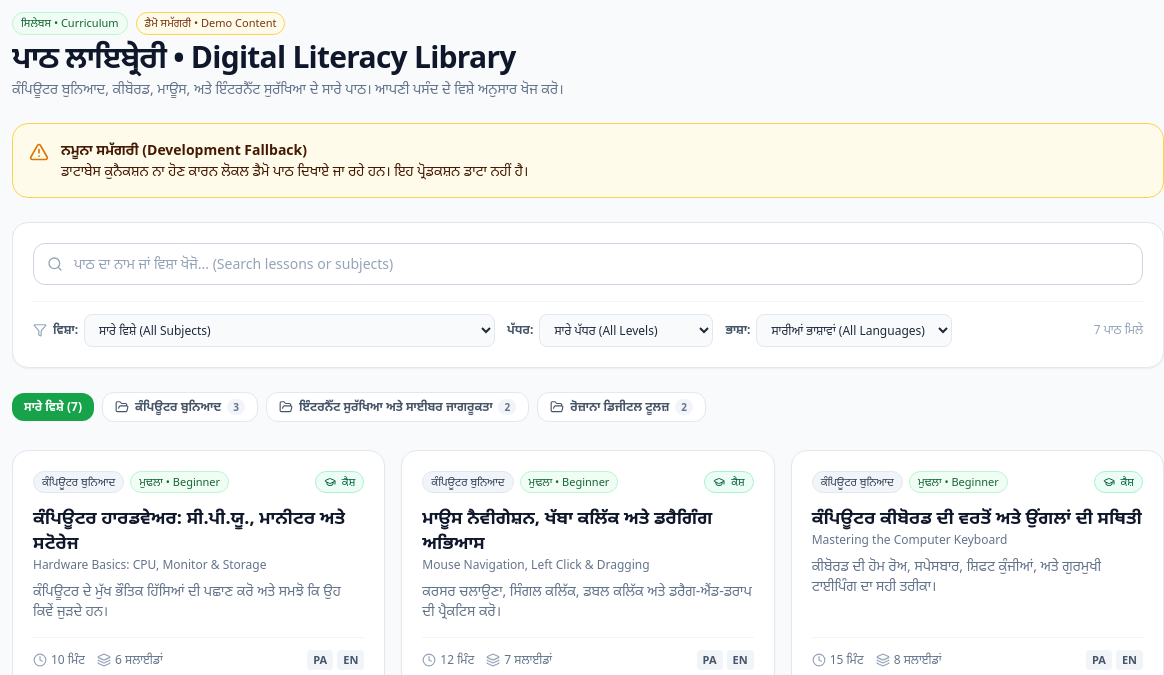
LessonsPage Component (Lesson Library) › filters lessons when typing search query
Expected: the heading "ਕੰਪਿਊਟਰ ਹਾਰਡਵੇਅਰ: ਸੀ.ਪੀ.ਯੂ., ਮਾਨੀਟਰ ਅਤੇ ਸਟੋਰੇਜ" is shown, x1=33 y1=505 x2=364 y2=555
# Search for "password" in English or Punjabi
Step 1. Type "password" into the field named "ਪਾਠ ਖੋਜੋ" → coordinates (588, 264), box x1=33 y1=243 x2=1143 y2=285
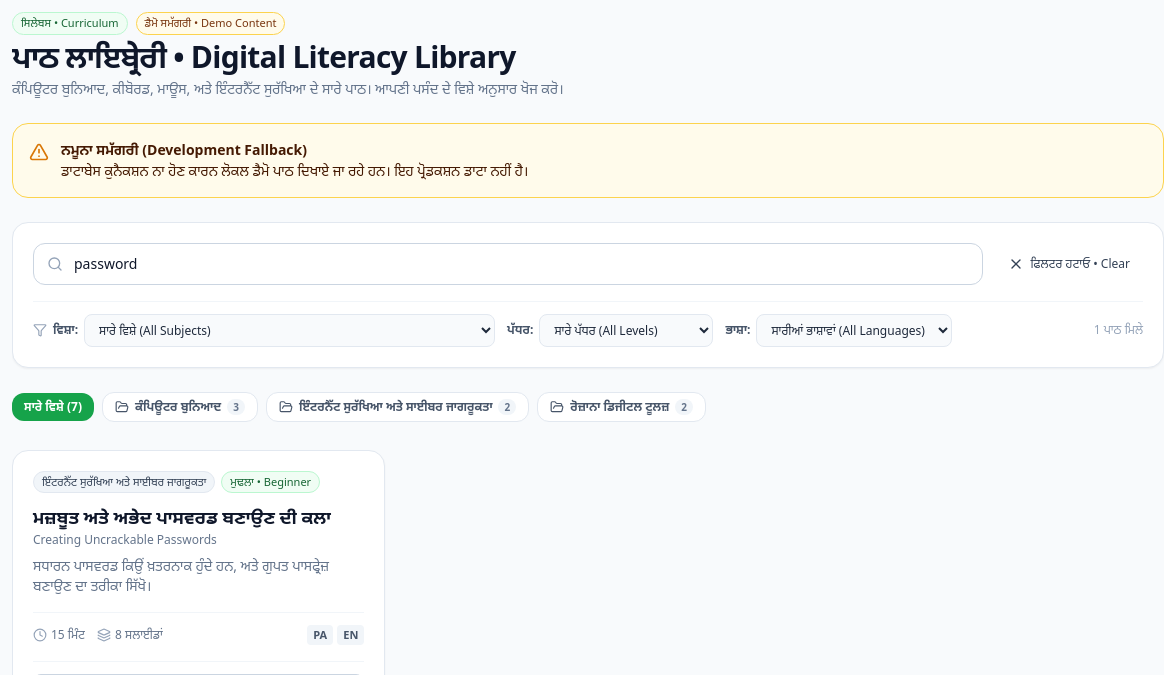
Expected: the heading "ਮਜ਼ਬੂਤ ਅਤੇ ਅਭੇਦ ਪਾਸਵਰਡ ਬਣਾਉਣ ਦੀ ਕਲਾ" is shown, x1=33 y1=505 x2=364 y2=530
Expected: the heading "ਮਾਊਸ ਨੈਵੀਗੇਸ਼ਨ, ਖੱਬਾ ਕਲਿੱਕ ਅਤੇ ਡਰੈਗਿੰਗ ਅਭਿਆਸ" is gone
